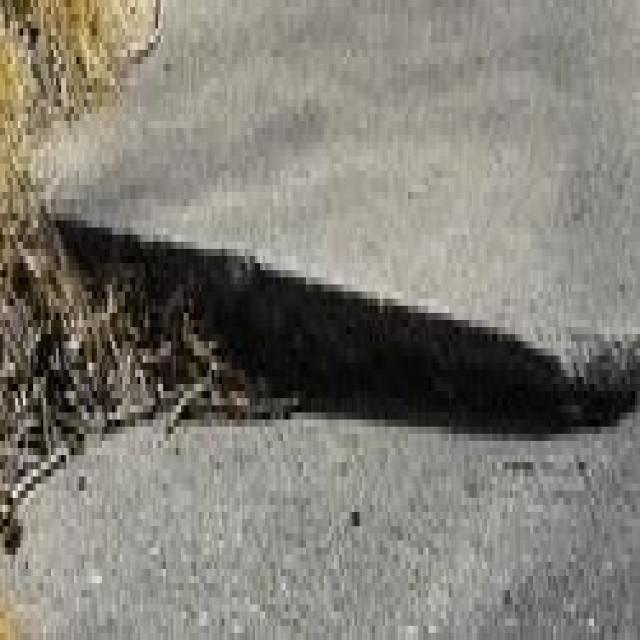bump: (18, 73, 640, 509)
